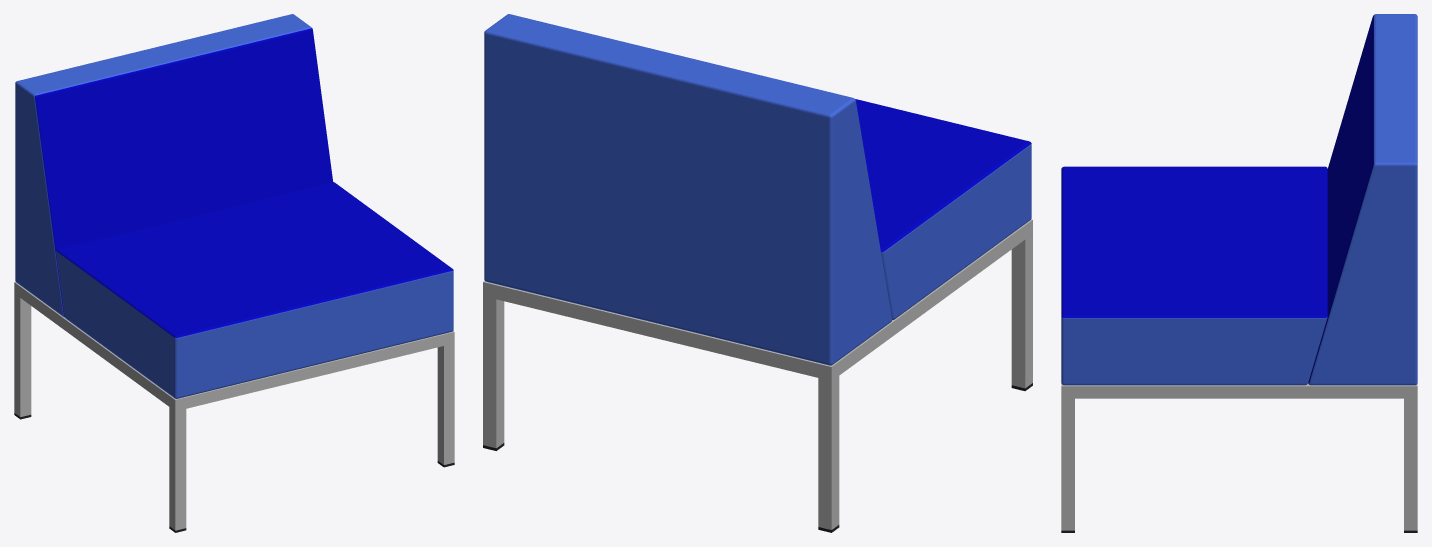
Rendered from cube-tuoli.fbx.
3 renders of one model, left to right at view 1: azimuth 30°, elevation 25°; view 2: azimuth 150°, elevation 25°; view 3: azimuth 270°, elevation 25°, orthographic. The views are drawn at different scales.
Parts seen in each view (by area): view 1: Group6, Group5, Group3, Group4, Group2; view 2: Group4, Group2, Group5, Group3; view 3: Group5, Group4, Group3, Group2, Group6.
Part boxes in pixels (bbox=[...]): Group6: bbox=[34, 28, 332, 316]; Group5: bbox=[56, 182, 453, 337]; Group3: bbox=[56, 251, 453, 398]; Group4: bbox=[15, 14, 333, 317]; Group2: bbox=[14, 282, 454, 530]; Group4: bbox=[484, 14, 891, 365]; Group2: bbox=[483, 219, 1032, 529]; Group5: bbox=[855, 99, 1031, 252]; Group3: bbox=[881, 144, 1031, 319]; Group5: bbox=[1061, 166, 1327, 317]; Group4: bbox=[1309, 14, 1417, 385]; Group3: bbox=[1061, 169, 1327, 385]; Group2: bbox=[1061, 383, 1417, 530]; Group6: bbox=[1308, 15, 1374, 383].
Bounding box in the file's own units: 649 × 742 × 649.
